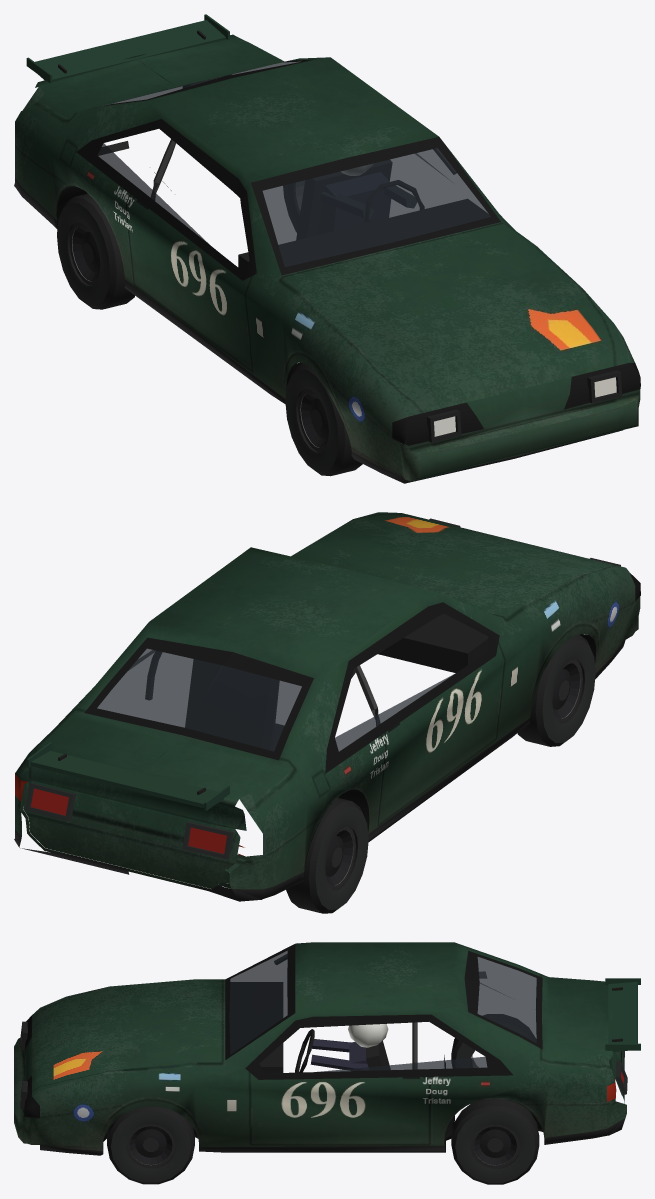
3 views of the same model, one above another, from view 1: azimuth 30°, elevation 25°; view 2: azimuth 150°, elevation 25°; view 3: azimuth 270°, elevation 25° (orthographic). The views are drawn at different scales.
Visible parts, largest first — view 1: body, wheel_rr, wheel_fr, wheel_rl; view 2: body, wheel_rr, wheel_fr; view 3: body, wheel_rl, wheel_fl, wheel_rr.
Part boxes in pixels (x1,y1,x2,y2): body: (14,14,640,483); wheel_rr: (57,193,134,309); wheel_fr: (285,363,362,476); wheel_rl: (283,180,304,231); body: (14,512,640,901); wheel_rr: (286,798,368,913); wheel_fr: (517,634,595,746); body: (14,942,640,1155); wheel_rl: (451,1098,539,1184); wheel_fl: (107,1106,194,1184); wheel_rr: (451,1014,536,1068).
Bounding box in the file's own units: 1.71 × 1.34 × 4.65.
2 materials, 1 textured.
